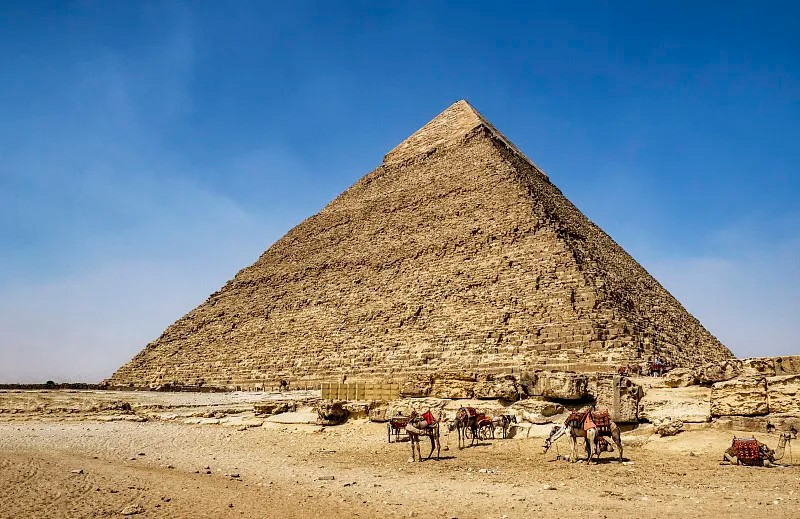Pyramid: (100, 100, 738, 393)
